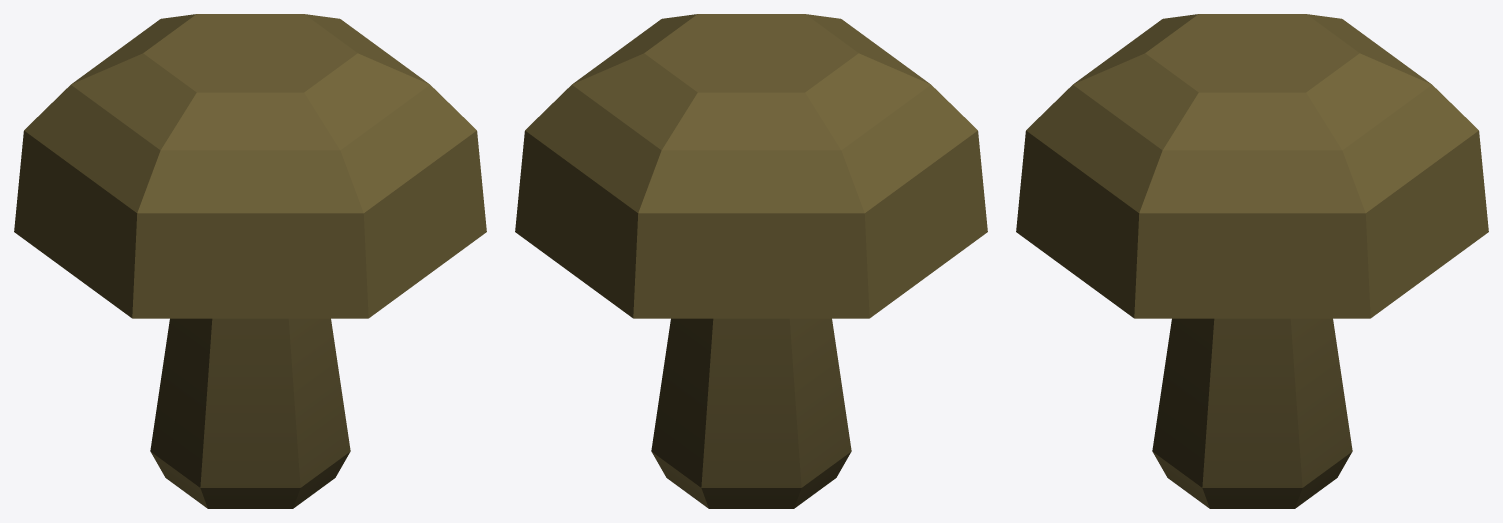
Rendered from pq_champignon.glb.
3 renders of one model, left to right at view 1: azimuth 30°, elevation 25°; view 2: azimuth 150°, elevation 25°; view 3: azimuth 270°, elevation 25°, orthographic.
Parts seen in each view (by area): view 1: Mushroom; view 2: Mushroom; view 3: Mushroom.
Part boxes in pixels (box(x1,y1,x2,y2)): Mushroom: box(14, 14, 486, 508); Mushroom: box(515, 14, 987, 508); Mushroom: box(1016, 14, 1488, 508).
Bounding box in the file's own units: 0.0537 × 0.0614 × 0.062.
